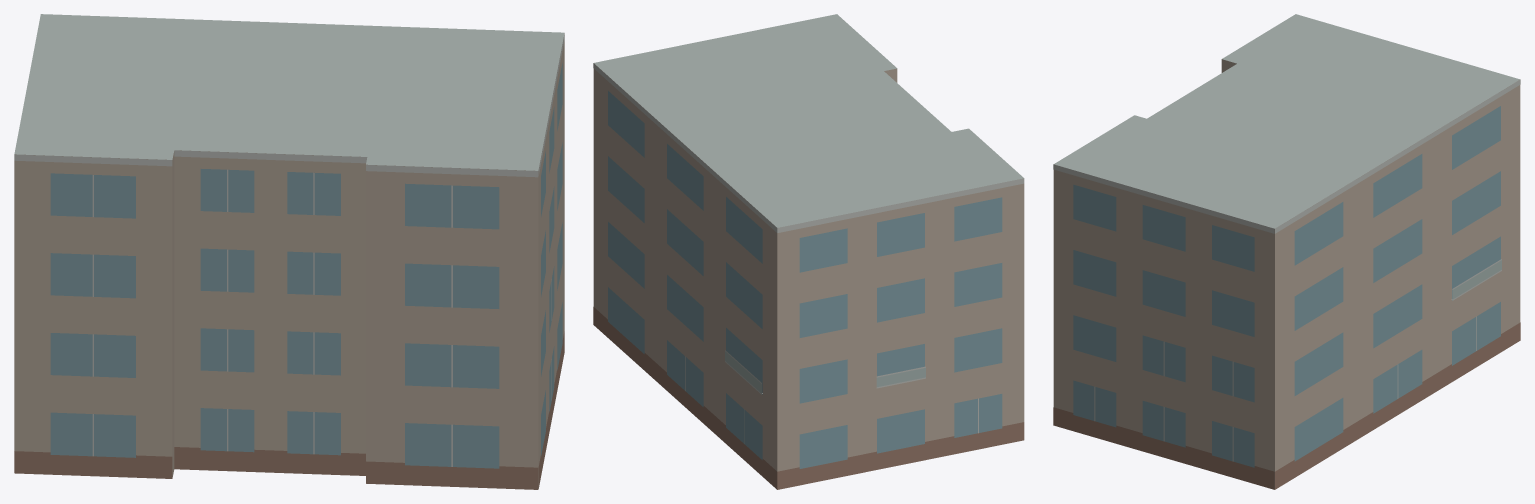
The model's file is survey-upis-32775800.glb.
3 views of the same model, side by side, from view 1: azimuth 30°, elevation 25°; view 2: azimuth 150°, elevation 25°; view 3: azimuth 270°, elevation 25° (orthographic). The views are drawn at different scales.
Parts seen in each view (by area): view 1: survey-upis-32775800.tmp; view 2: survey-upis-32775800.tmp; view 3: survey-upis-32775800.tmp.
Boxes of the visible parts, x1,y1,x2,y2 form: survey-upis-32775800.tmp: [14, 14, 564, 489]; survey-upis-32775800.tmp: [593, 14, 1024, 489]; survey-upis-32775800.tmp: [1053, 14, 1520, 489].
Size of the model in its own units: 21.52 by 12.2 by 19.78.
